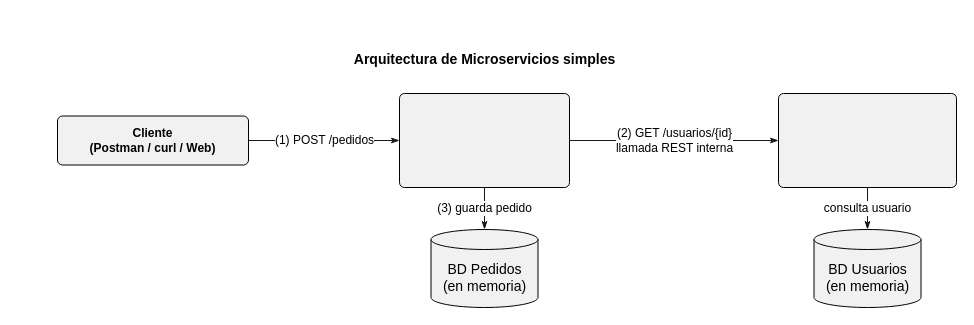
Some shapes in this 974 by 325 pixel diagram are drawn without their labels. The box of each missing label's shape, as (x1, y1, x2, y2) in pixels:
Servicio de Pedidos (puerto 5002) -- GET /pedidos POST /pedidos: (398, 92, 570, 188)
Servicio de Usuarios (puerto 5001) -- GET /usuarios/:id POST /usuarios: (778, 92, 956, 188)
